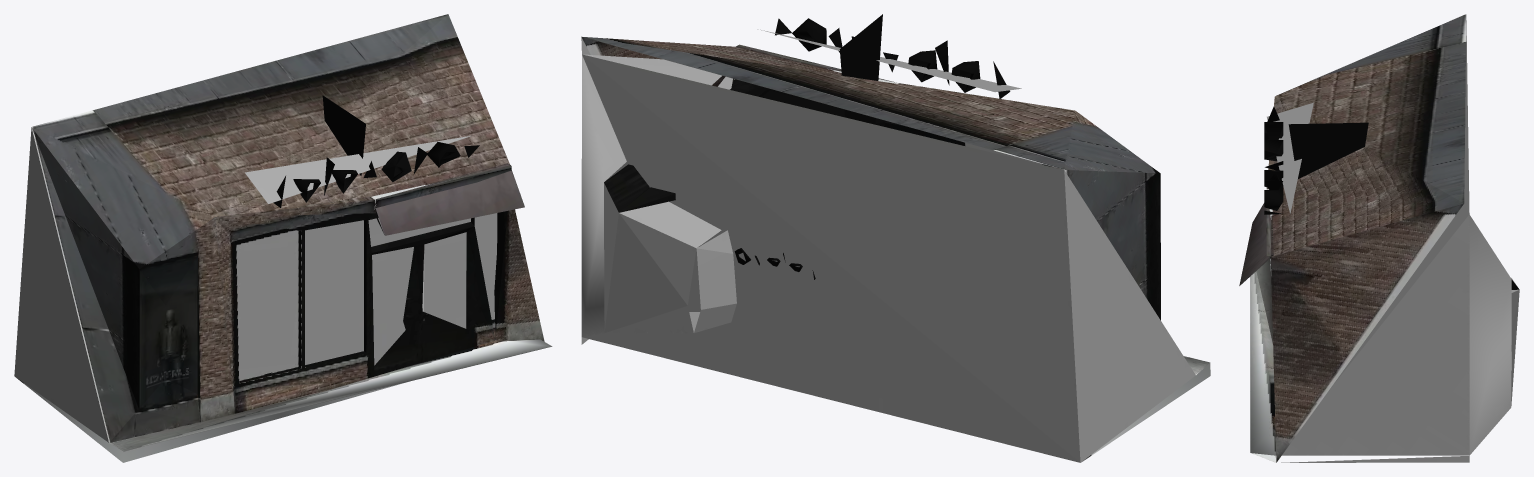
Rendered from brick_shopfront_lod1.glb.
3 renders of one model, left to right at view 1: azimuth 30°, elevation 25°; view 2: azimuth 150°, elevation 25°; view 3: azimuth 270°, elevation 25°, orthographic. The views are drawn at different scales.
Parts seen in each view (by area): view 1: brick_shopfront; view 2: brick_shopfront; view 3: brick_shopfront.
Boxes of the visible parts, left/top/right/bottom form: brick_shopfront: left=14, top=14, right=552, bottom=462; brick_shopfront: left=581, top=14, right=1210, bottom=462; brick_shopfront: left=1239, top=14, right=1519, bottom=462.
Bounding box in the file's own units: 6.34 × 3.68 × 3.56.
1 material, 1 textured.
